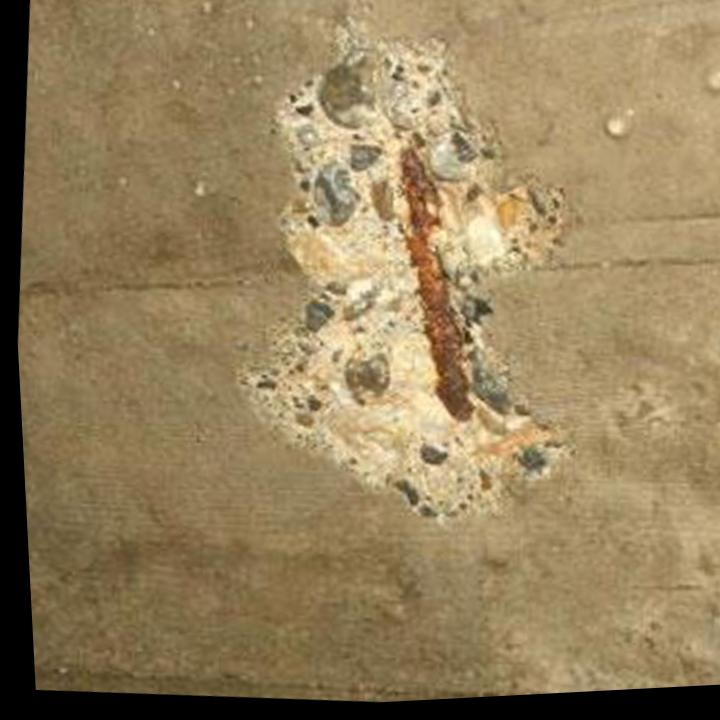damage: (242, 23, 564, 522)
